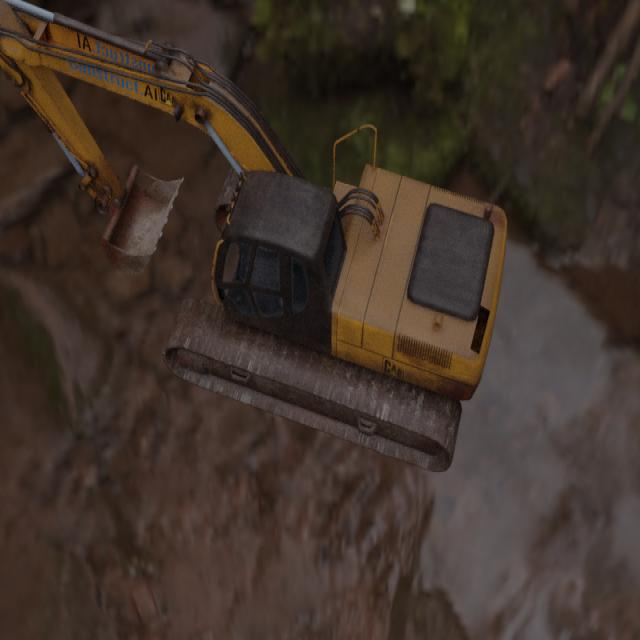excavator: (0, 0, 508, 473)
